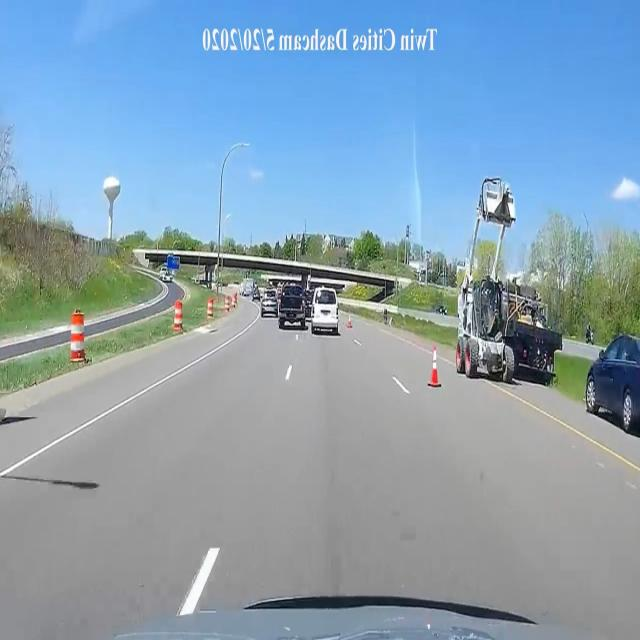cone: (426, 354, 441, 388), (348, 310, 353, 330)
